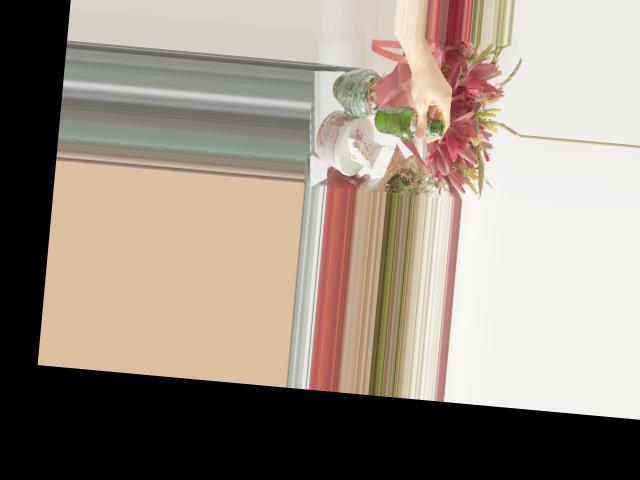beer: (372, 105, 445, 142)
